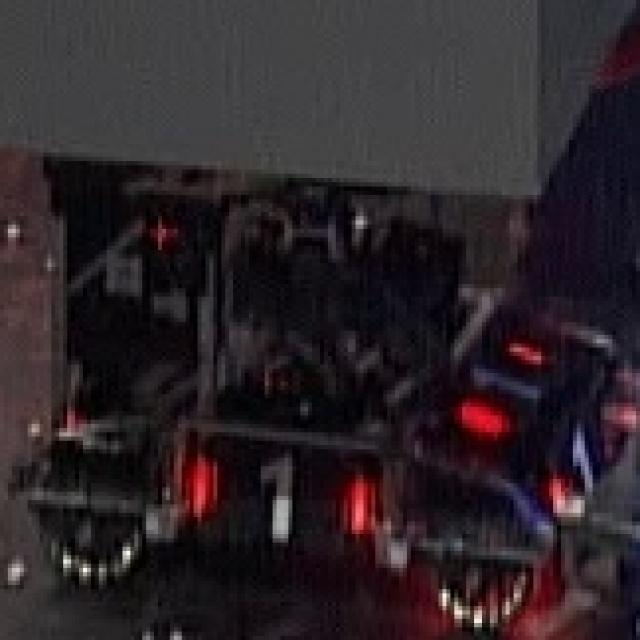R1: (186, 441, 371, 547), (454, 339, 549, 437)
